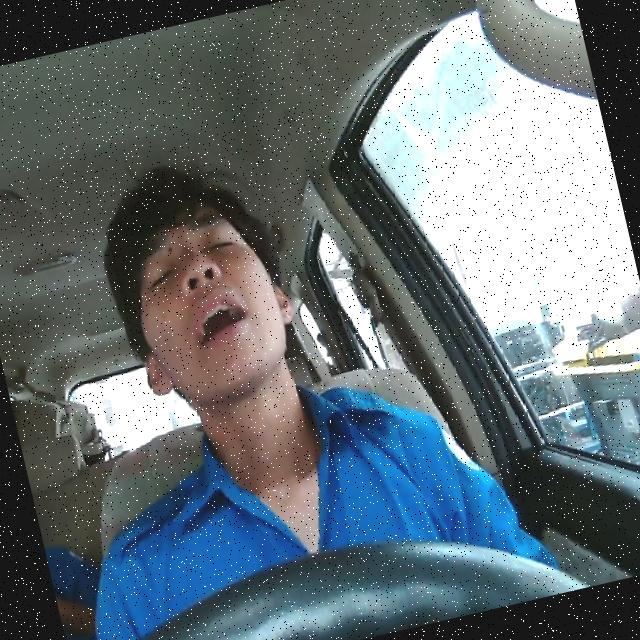yarning: (110, 187, 306, 416)
